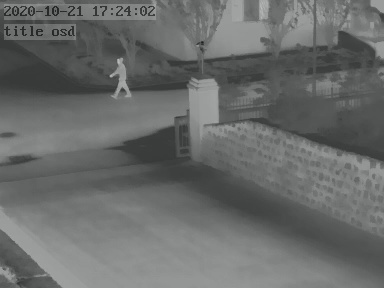person: (111, 57, 133, 98)
